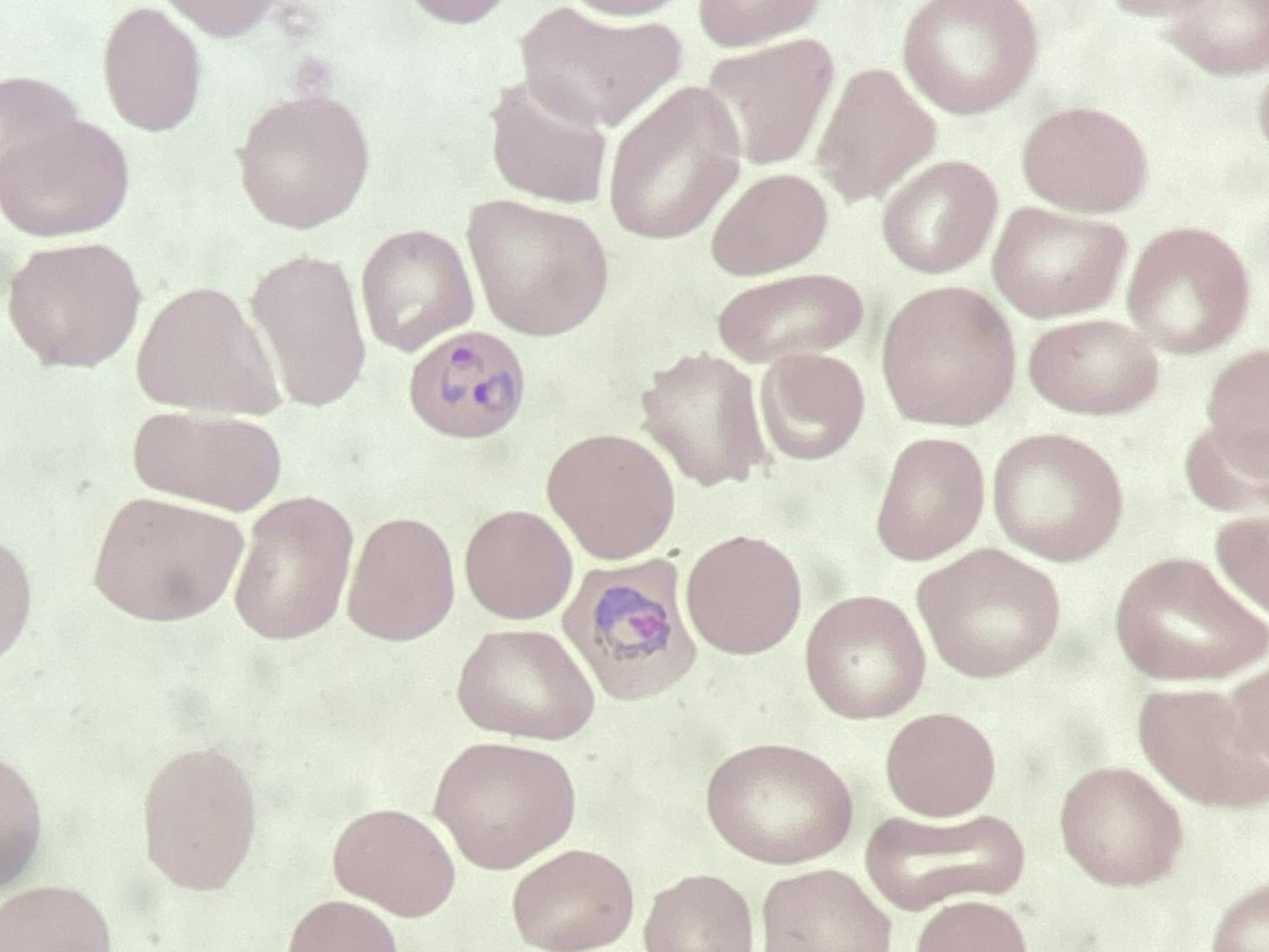Infected: (561, 561, 695, 699), (411, 331, 523, 438)
Uninfected: (519, 10, 679, 133), (608, 89, 742, 235), (135, 289, 283, 419), (1115, 558, 1264, 684), (466, 201, 606, 335), (96, 498, 244, 623), (880, 289, 1013, 424), (434, 745, 573, 873), (916, 548, 1053, 675), (247, 258, 365, 405), (705, 745, 848, 864), (235, 497, 355, 636), (636, 352, 764, 482), (237, 101, 367, 226), (7, 245, 138, 369), (707, 38, 833, 166), (143, 750, 256, 892), (546, 438, 672, 560), (2, 116, 129, 236), (865, 814, 1022, 911), (132, 411, 279, 514), (816, 71, 934, 199), (994, 436, 1117, 558), (1139, 688, 1265, 807), (991, 205, 1124, 317), (1126, 228, 1247, 350), (457, 633, 591, 741), (905, 1, 1034, 111), (805, 599, 924, 717), (343, 518, 455, 643), (684, 537, 799, 655), (362, 230, 474, 350), (332, 811, 456, 919), (877, 439, 987, 559), (708, 174, 831, 281), (491, 90, 605, 205), (1061, 770, 1175, 882), (880, 164, 998, 272), (711, 278, 866, 359), (1023, 108, 1144, 211), (886, 713, 998, 822), (1028, 321, 1157, 415), (512, 853, 632, 951), (759, 351, 865, 460), (106, 10, 200, 132), (464, 514, 570, 620), (760, 870, 886, 951), (640, 876, 750, 952)
